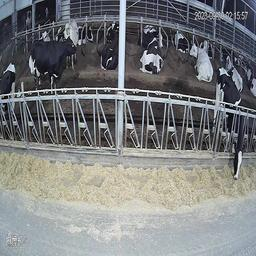cow: (214, 65, 248, 179), (29, 37, 75, 91), (188, 41, 213, 84), (137, 34, 163, 74), (0, 59, 17, 120), (98, 34, 123, 69), (224, 53, 244, 92), (141, 23, 164, 48), (63, 18, 78, 50), (171, 27, 188, 55), (199, 34, 215, 59), (78, 23, 93, 46), (106, 20, 119, 40), (248, 61, 255, 98), (24, 8, 34, 31)
